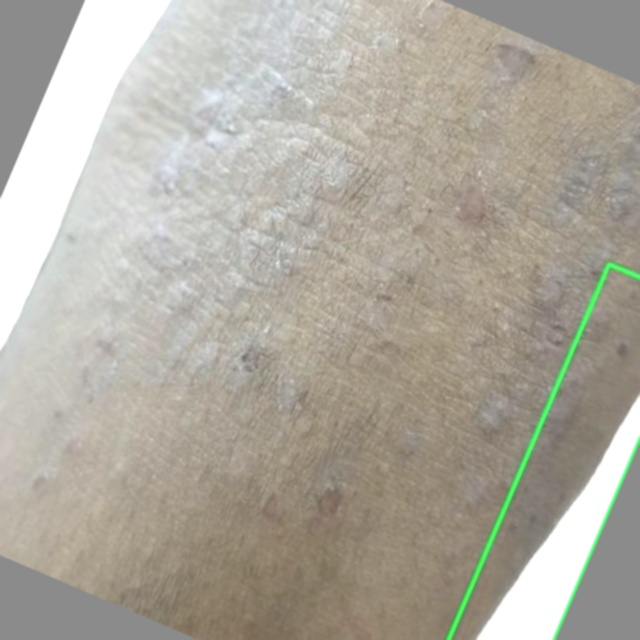Atopic Dermatitis: (448, 264, 639, 639)
